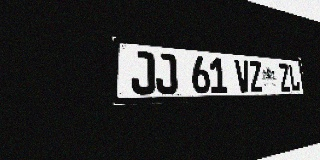1: (209, 57, 227, 93)
6: (191, 56, 211, 94)
J: (130, 50, 156, 95), (155, 53, 178, 94)
L: (288, 64, 301, 91)
V: (235, 59, 251, 93)
Z: (248, 61, 264, 92), (278, 63, 291, 91)
